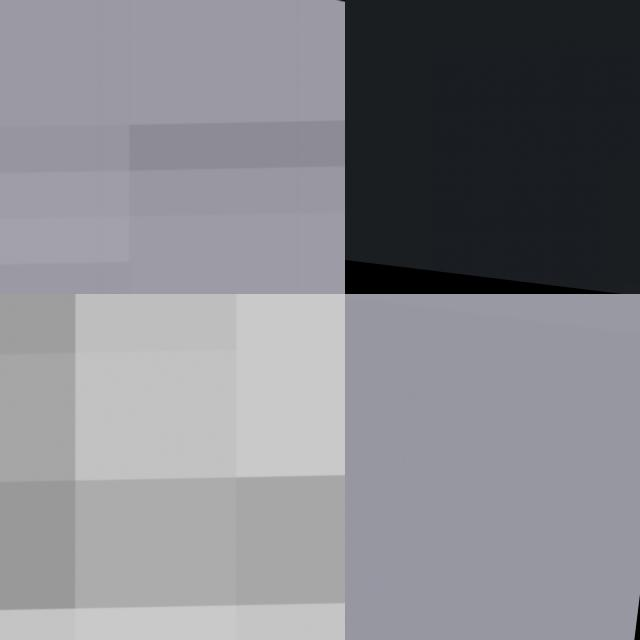drone: (0, 294, 345, 640), (0, 0, 345, 294), (345, 0, 640, 294)
